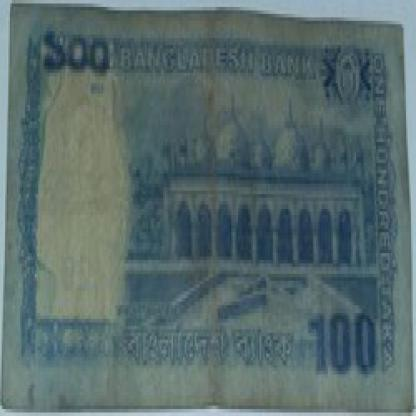one hundred taka: (306, 302, 378, 388), (42, 21, 113, 94)
